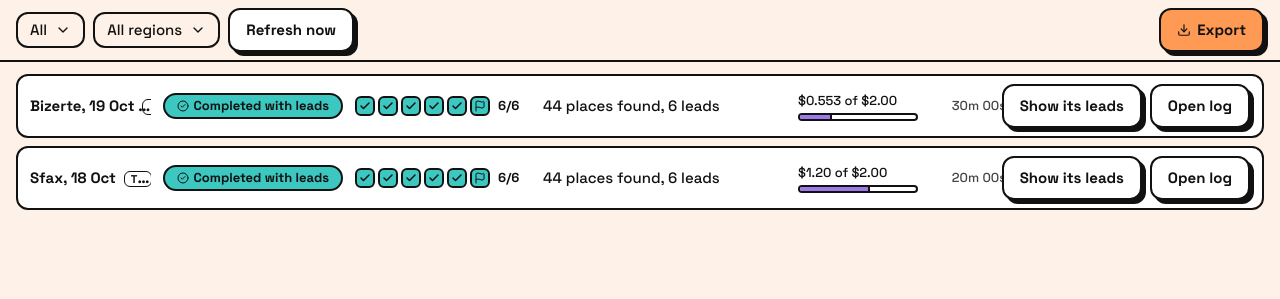
Scenario: Logs export mode › cancels with the button or Escape, which clears the picks and hides the checkboxes
expect the text "Bizerte, 19 Oct" is shown: met, box [30,96,134,115]
Step 1. Click the button "Export" → (1212, 30), box [1159,8,1264,52]
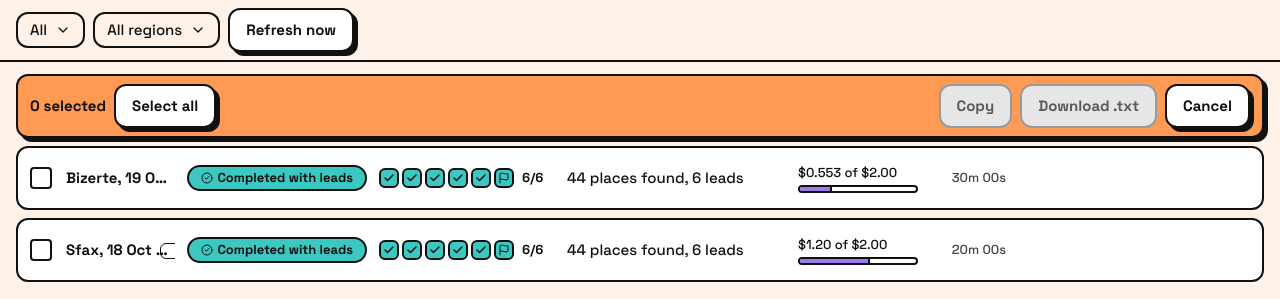
Step 2. Click the button "Select all" → (165, 106), box [114,84,216,128]
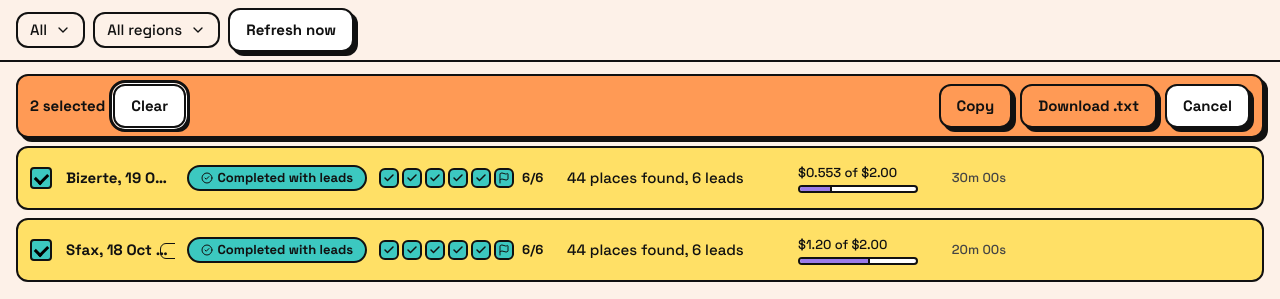
Step 3. Click the button "Cancel" → (1208, 106), box [1165,84,1250,128]
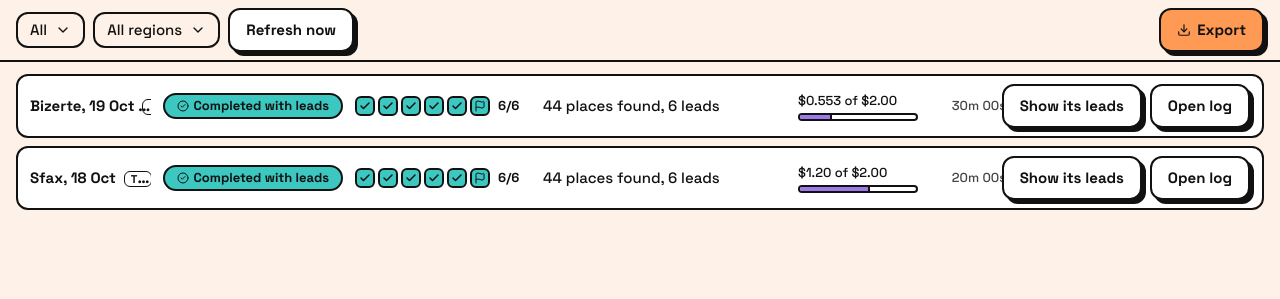
expect no checkboxes are shown: met
Step 4. Click the button "Export" → (1212, 30), box [1159,8,1264,52]
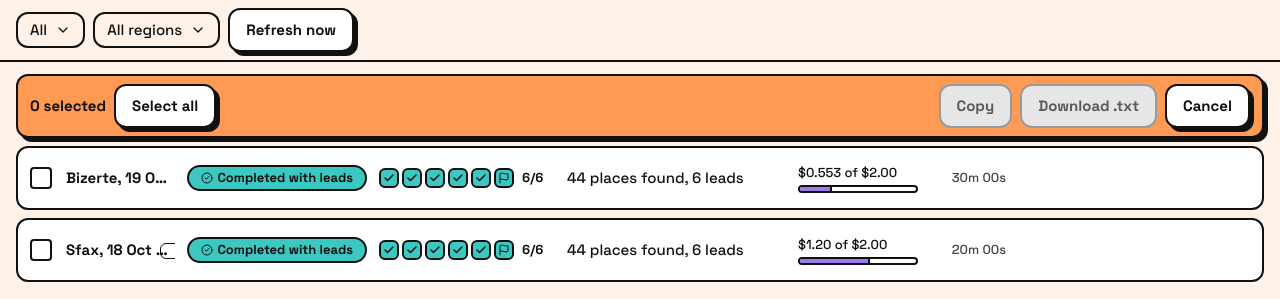
expect the text "0 selected" is shown: met, box [30,95,106,117]
Step 5. Click the button "Select all" → (165, 106), box [114,84,216,128]
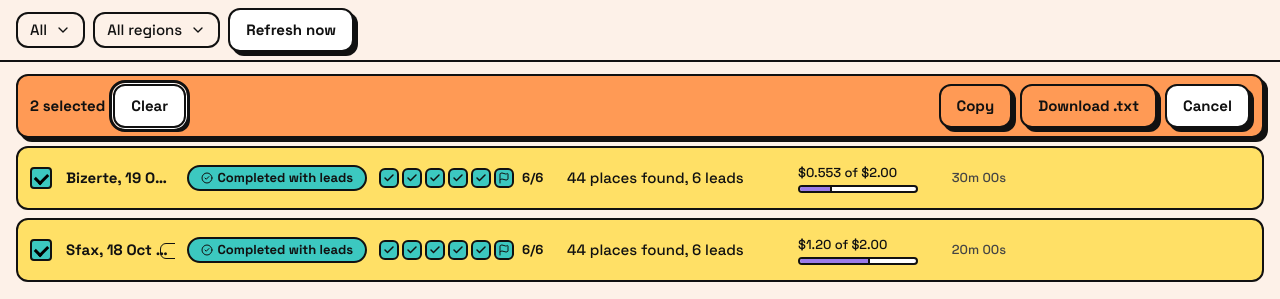
Step 6. Press Escape
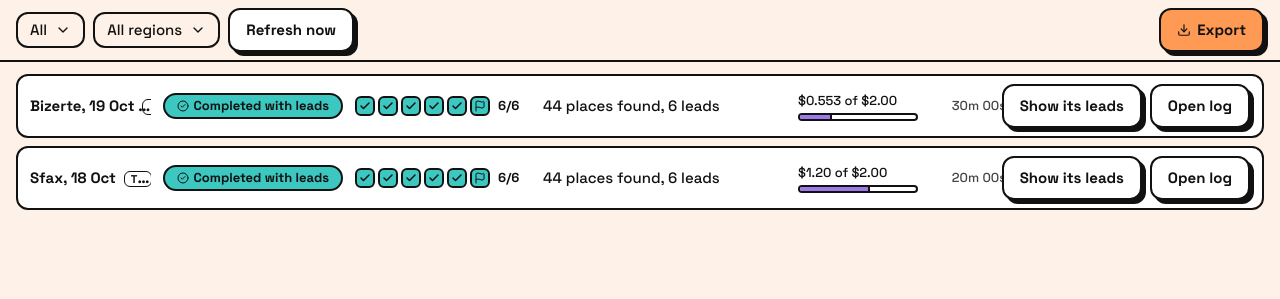
expect no checkboxes are shown: met
expect the text "2 selected" is gone: met
